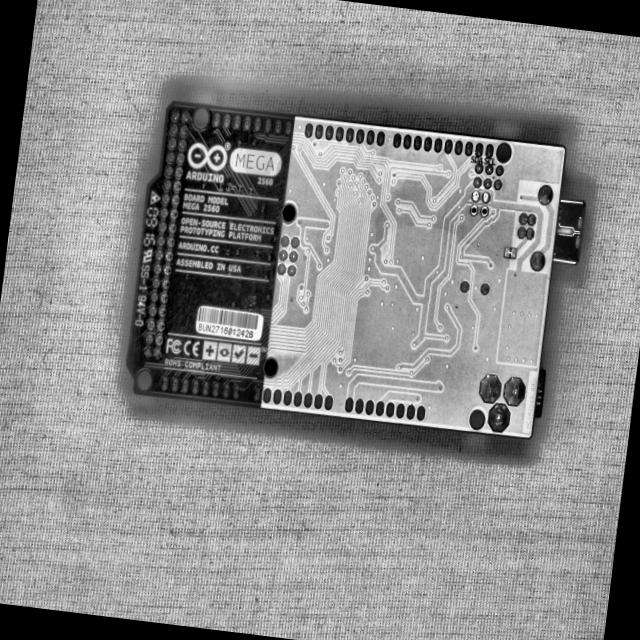PCB: (116, 91, 598, 448)
